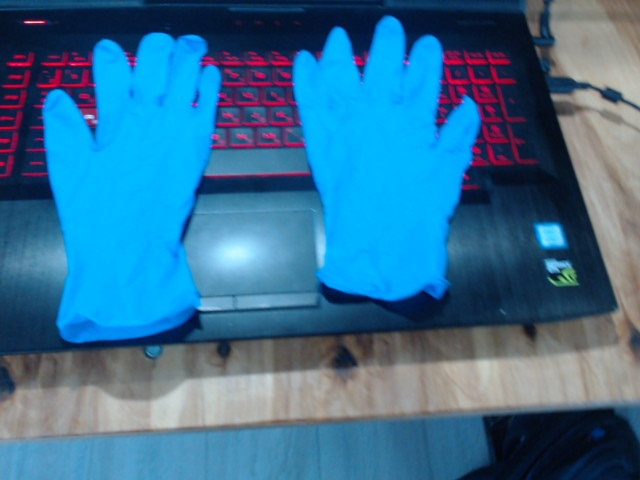medical_glove: (41, 31, 220, 339), (291, 15, 478, 301)
